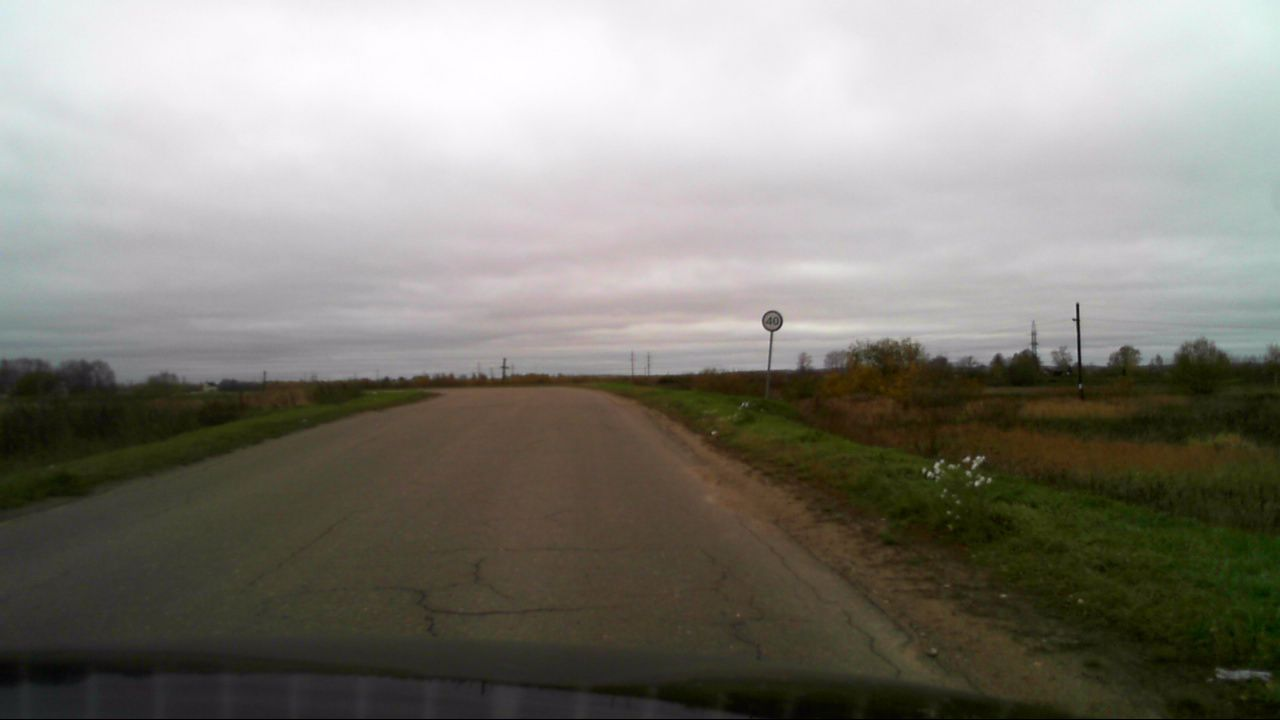speed_warning_40: (761, 310, 783, 332)
